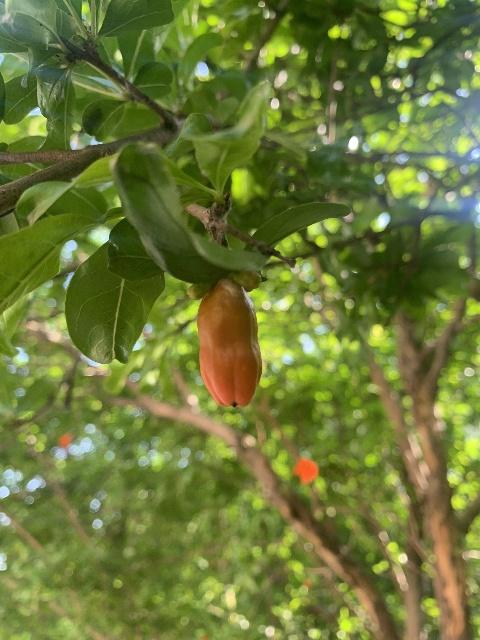bud: (197, 278, 260, 408)
